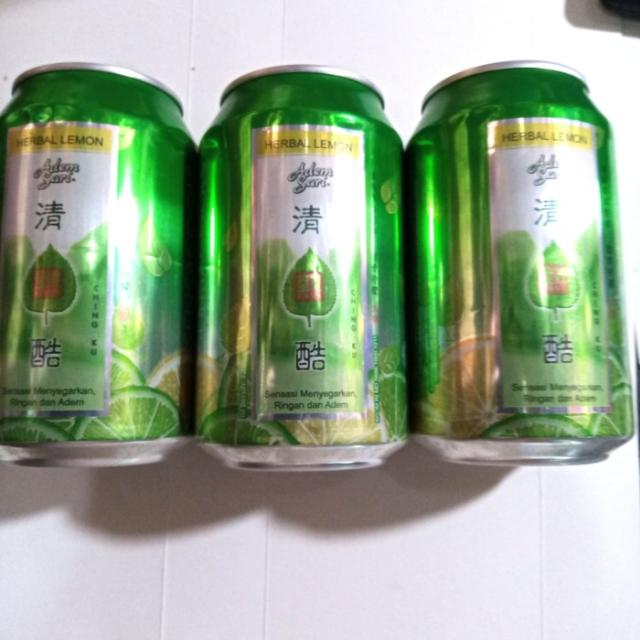ademsarikaleng: (405, 58, 635, 467), (194, 62, 408, 473), (0, 60, 197, 467)
